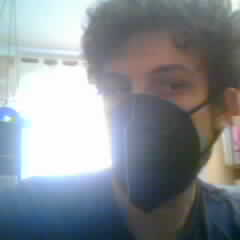with_mask: (99, 30, 219, 209)
